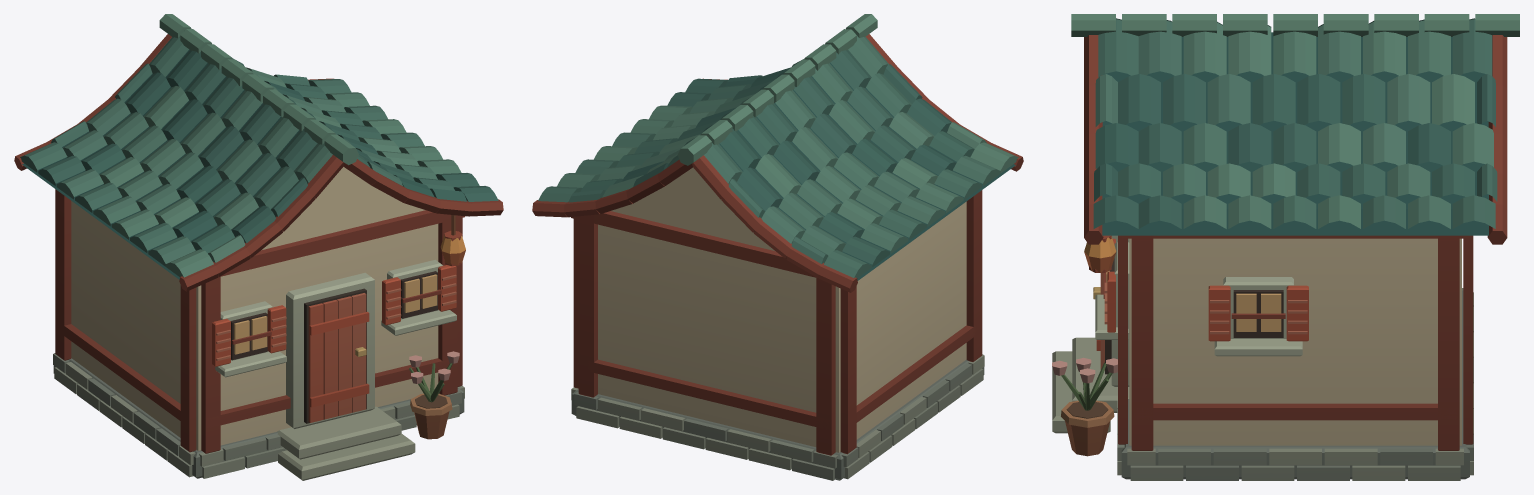
Rendered from terraces.glb.
3 views of the same model, side by side, from view 1: azimuth 30°, elevation 25°; view 2: azimuth 150°, elevation 25°; view 3: azimuth 270°, elevation 25° (orthographic). The views are drawn at different scales.
Visible parts, largest first — view 1: House; view 2: House; view 3: House.
Boxes of the visible parts, x1,y1,x2,y2 form: House: (14, 14, 503, 480); House: (532, 14, 1023, 480); House: (1052, 14, 1519, 480).
Size of the model in its own units: 2.92 by 2.76 by 3.04.
